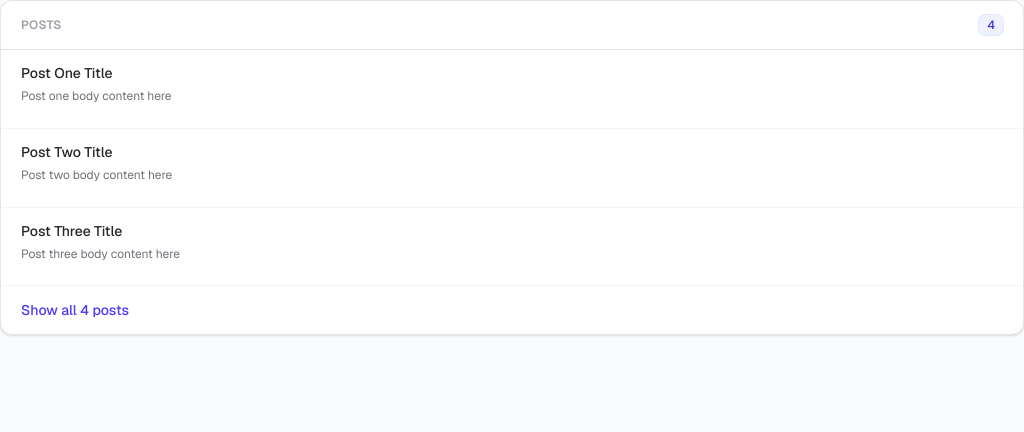
PostsSection › reveals remaining posts when "Show all" is clicked
The image size is (1024, 432).
Step 1. Click the button "Show all 4 posts" → (75, 310), box [21, 300, 129, 320]
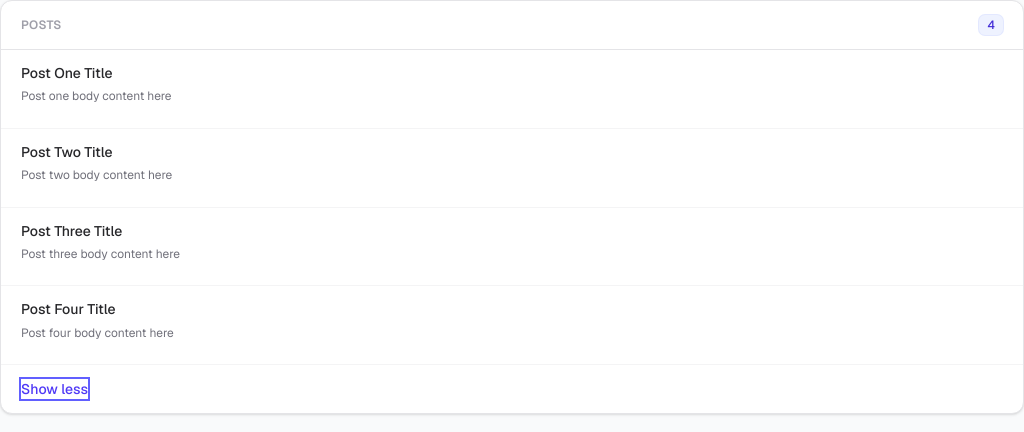
Now the text "Post four title" is shown, box [21, 300, 116, 318]
